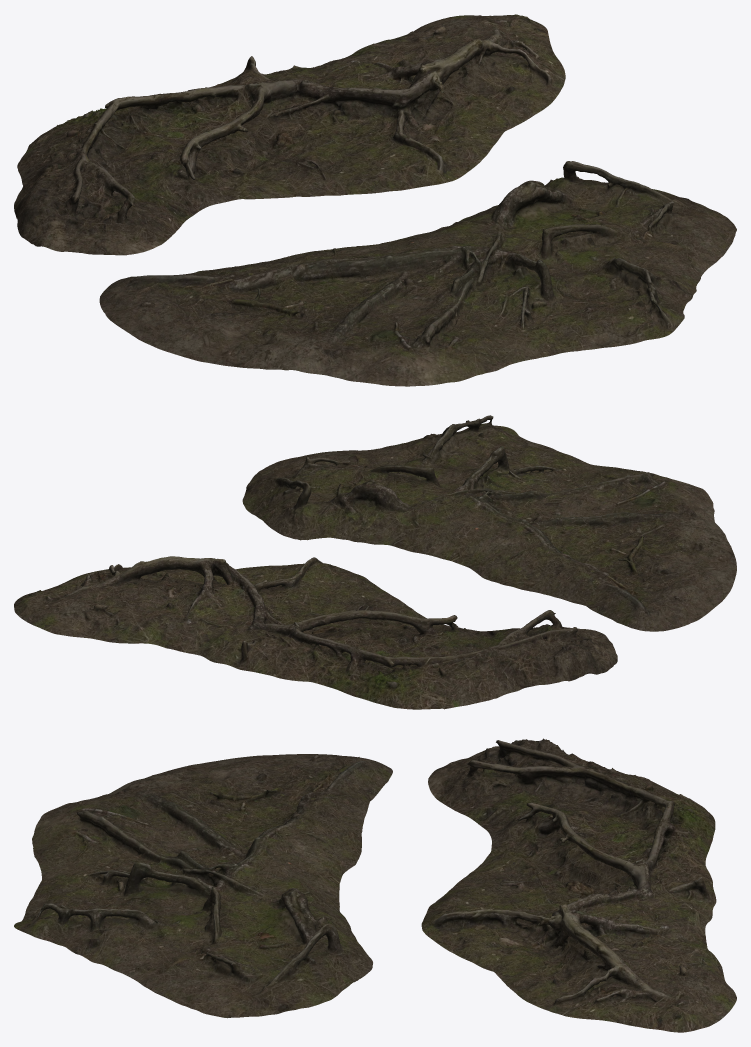
Rendered from pine_roots.glb.
3 renders of one model, top to bottom at view 1: azimuth 30°, elevation 25°; view 2: azimuth 150°, elevation 25°; view 3: azimuth 270°, elevation 25°, orthographic. The views are drawn at different scales.
Visible parts, largest first — view 1: pine_roots_b, pine_roots_a; view 2: pine_roots_b, pine_roots_a; view 3: pine_roots_b, pine_roots_a.
Boxes of the visible parts, <box> form: pine_roots_b: <box>99,161,736,386</box>; pine_roots_a: <box>14,14,565,255</box>; pine_roots_b: <box>242,415,736,631</box>; pine_roots_a: <box>14,556,617,709</box>; pine_roots_b: <box>14,754,392,1018</box>; pine_roots_a: <box>421,738,736,1032</box>.
Size of the model in its own units: 1.77 by 0.1548 by 1.89.
Materials: 2 (2 with a texture image).
